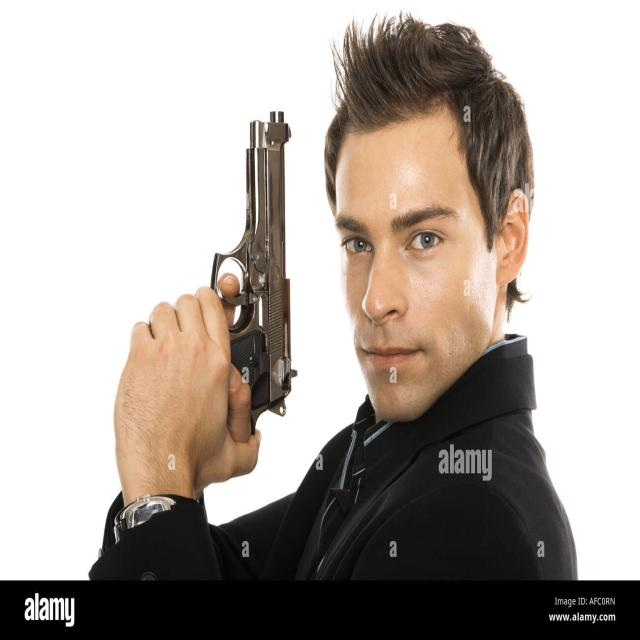HandGun: (211, 112, 298, 419)
